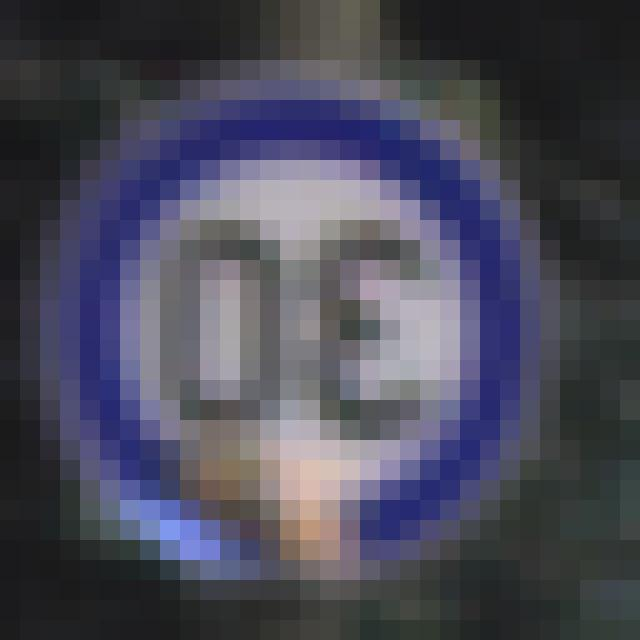SPEED LIMIT 30: (90, 146, 514, 562)
